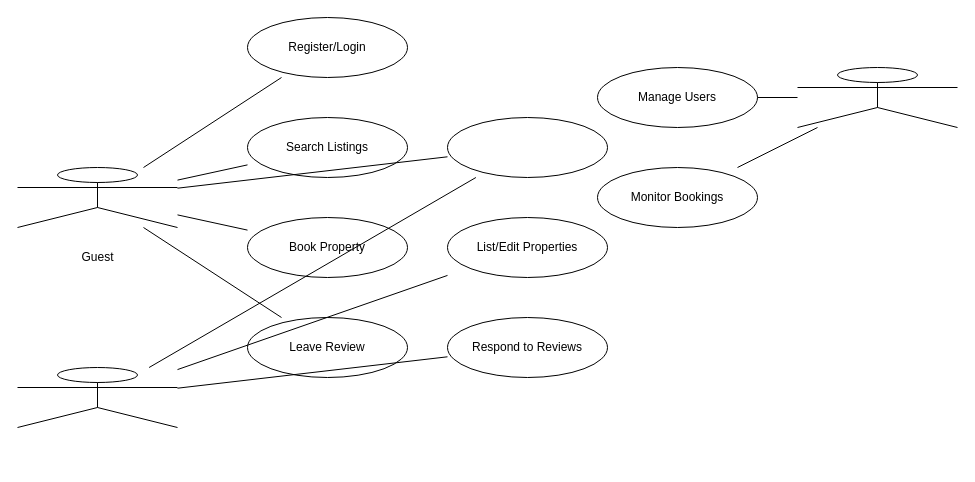
Image size: 975x482. Some labels were removed from this diagram. Each missing label, with the box of its shape:
Admin: (796, 66, 958, 128)
Host: (16, 366, 178, 428)
Process Payments: (446, 116, 608, 178)
